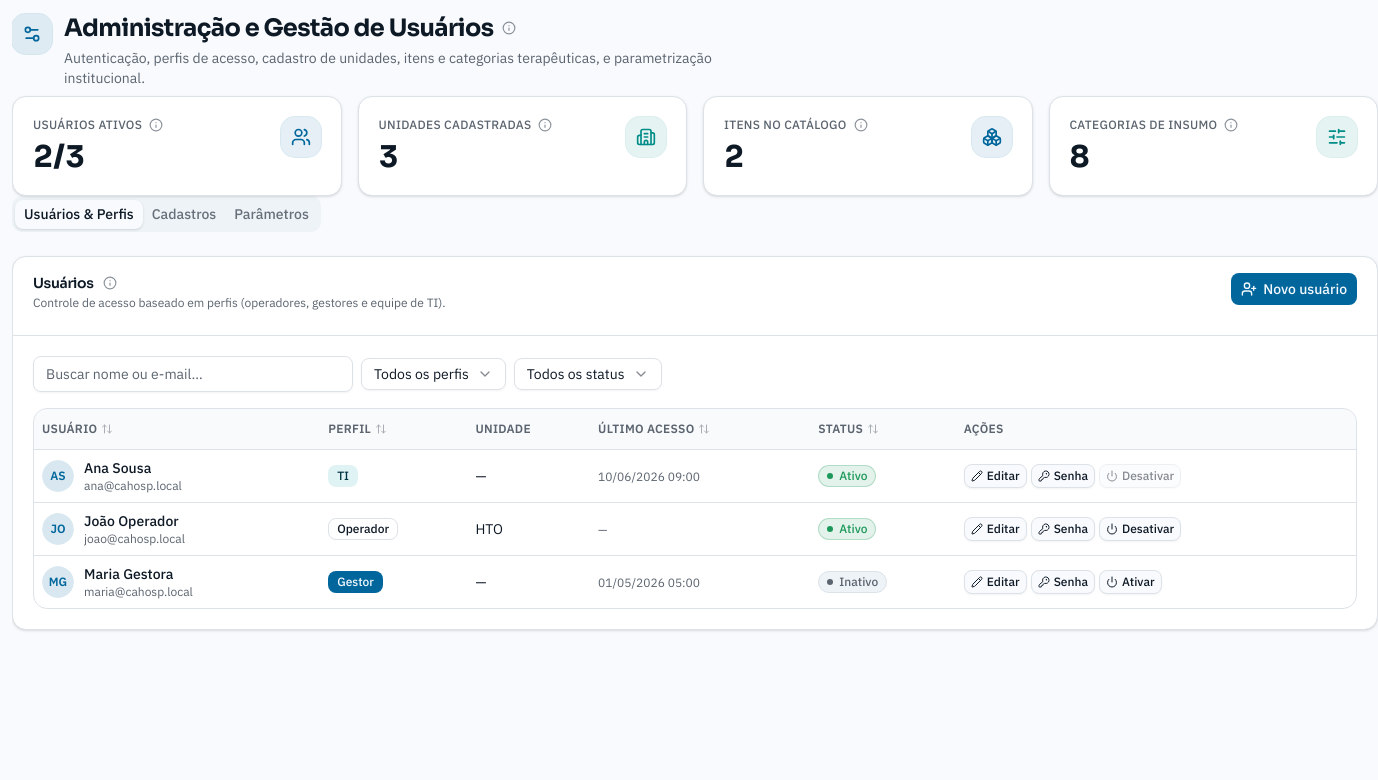
Test: AdminPage › mostra erro (toast) quando a alteração de status falha
Click the button with aria-label "Desativar João Operador". click: [1140, 528]
box: [1099, 516, 1181, 540]
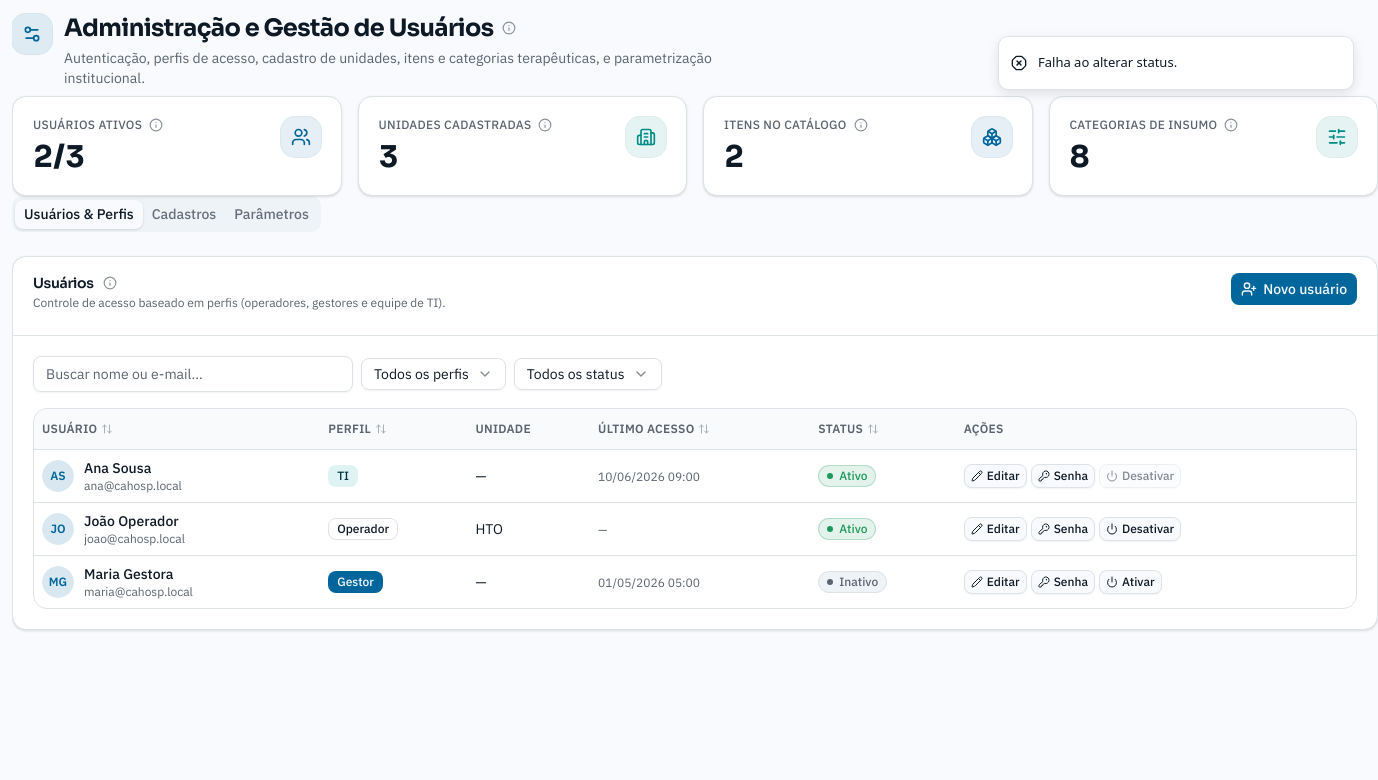
Result: the text "Falha ao alterar status." is shown at [1038, 53, 1177, 72]
